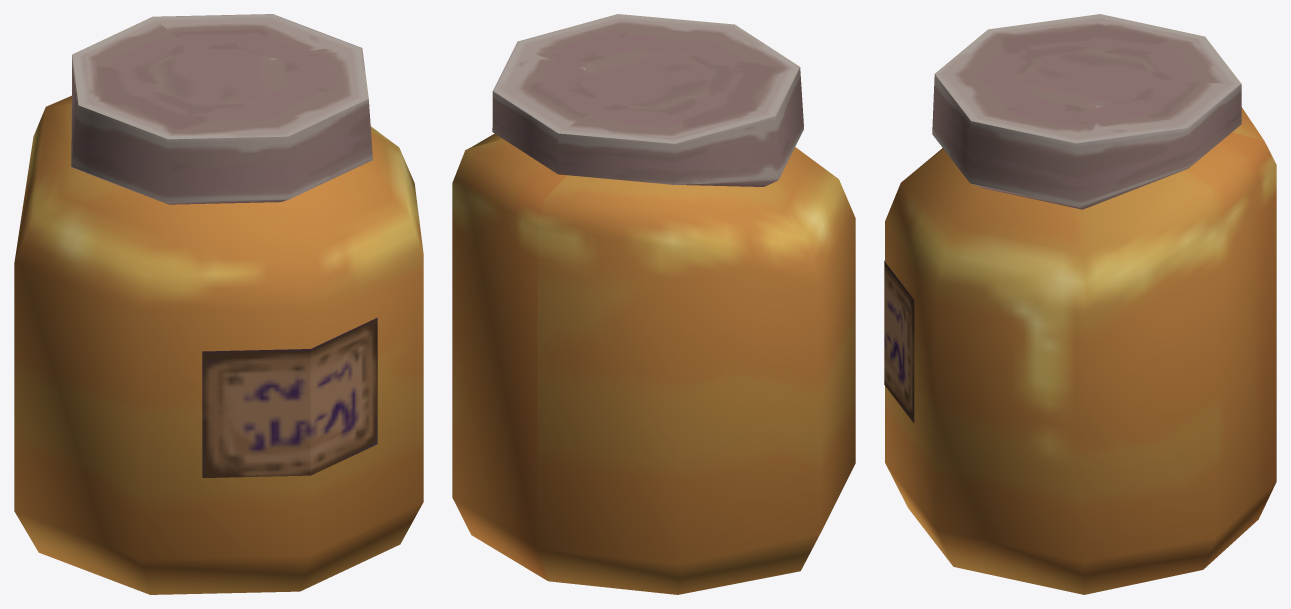
Rendered from Jar_Single1.fbx.
3 views of the same model, side by side, from view 1: azimuth 30°, elevation 25°; view 2: azimuth 150°, elevation 25°; view 3: azimuth 270°, elevation 25° (orthographic). The views are drawn at different scales.
Visible parts, largest first — view 1: Jar_single1; view 2: Jar_single1; view 3: Jar_single1.
Part boxes in pixels (<box>): Jar_single1: <box>14,14,423,594</box>; Jar_single1: <box>452,14,855,594</box>; Jar_single1: <box>884,14,1276,594</box>.
Size of the model in its own units: 15.78 by 17.5 by 14.3.
1 material, 1 textured.
